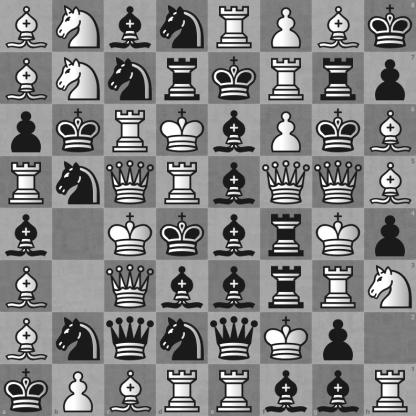B: (364, 156, 416, 209), (104, 364, 156, 416), (364, 104, 416, 156), (1, 1, 52, 52), (1, 53, 52, 104), (1, 261, 52, 312), (1, 313, 52, 364), (313, 1, 364, 52)
K: (105, 209, 156, 260), (157, 105, 208, 156), (261, 313, 312, 364), (313, 209, 364, 260)
N: (364, 260, 416, 312), (53, 1, 104, 52), (53, 53, 104, 104)
P: (52, 364, 104, 416), (261, 1, 312, 52), (261, 105, 312, 156)
Q: (105, 157, 156, 208), (105, 261, 156, 312), (261, 157, 312, 208), (313, 157, 364, 208)
R: (156, 364, 209, 416), (364, 364, 416, 416), (209, 364, 260, 416), (1, 157, 52, 208), (105, 105, 156, 156), (157, 157, 208, 208), (209, 1, 260, 52), (261, 53, 312, 104), (313, 261, 364, 312)
b: (260, 364, 312, 416), (312, 364, 364, 416), (1, 209, 52, 260), (105, 1, 156, 52), (157, 261, 208, 312), (209, 105, 260, 156), (209, 157, 260, 208), (209, 209, 260, 260), (209, 261, 260, 312)
board: (0, 0, 415, 415)
k: (0, 364, 52, 416), (364, 0, 416, 52), (53, 105, 104, 156), (157, 209, 208, 260), (209, 53, 260, 104), (313, 105, 364, 156)
n: (53, 157, 104, 208), (53, 313, 104, 364), (105, 53, 156, 104), (157, 1, 208, 52), (157, 313, 208, 364)
p: (364, 52, 416, 104), (364, 209, 416, 260), (1, 105, 52, 156), (313, 313, 364, 364)
q: (105, 313, 156, 364), (209, 313, 260, 364)
r: (157, 53, 208, 104), (261, 209, 312, 260), (261, 261, 312, 312), (313, 53, 364, 104)
